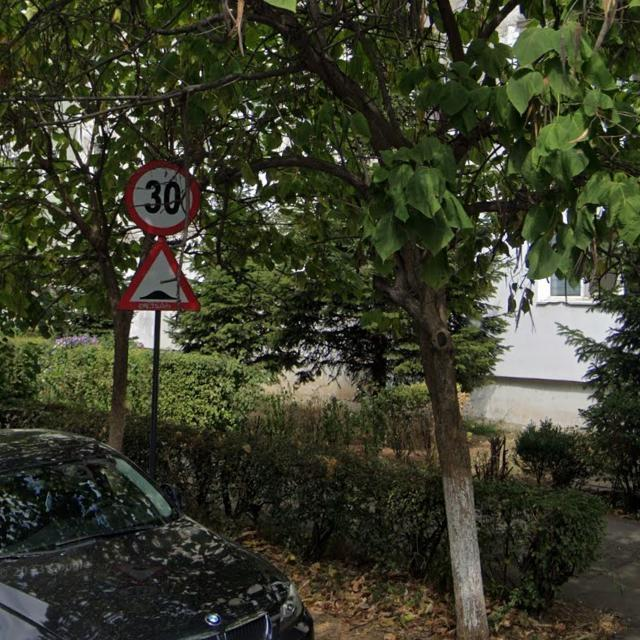forb_speed_over_30: (125, 161, 201, 237)
